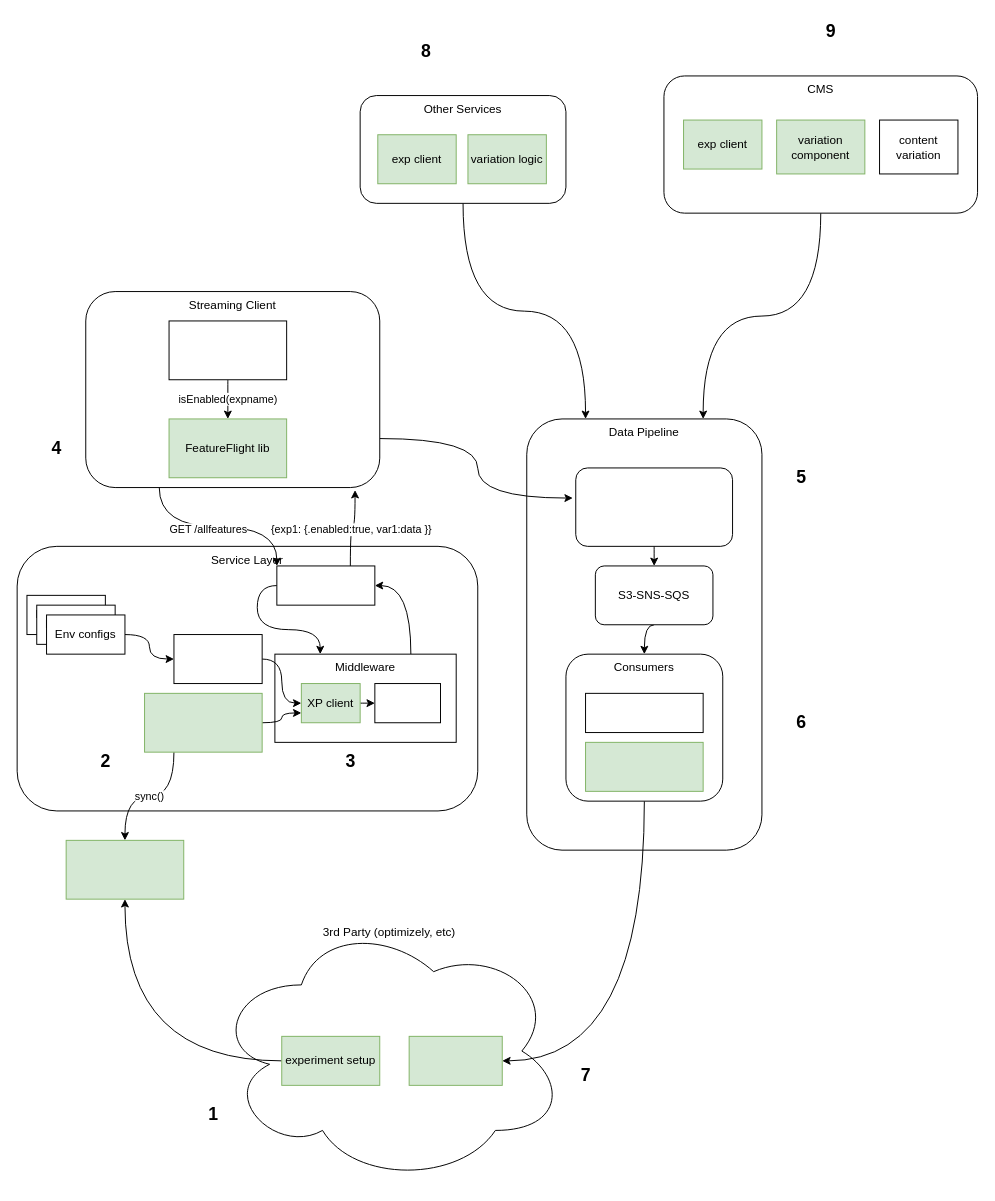
Some shapes in this 995 by 1201 pixel diagram are drawn without their labels. Here are the shapes that lost their labels. From the top down, the centre of each, then its label:
(227,350): UI component (react, other)
(654,506): Telemetry endpoints (logging infrastructure producers)
(325,585): HTTP router
(217,659): Legacy client
(203,722): Optimizely client lib
(407,703): API endpoint
(644,712): other workers
(644,766): Experiment result consumer (worker)
(124,869): CDN
(455,1060): Stats engine / reporting
